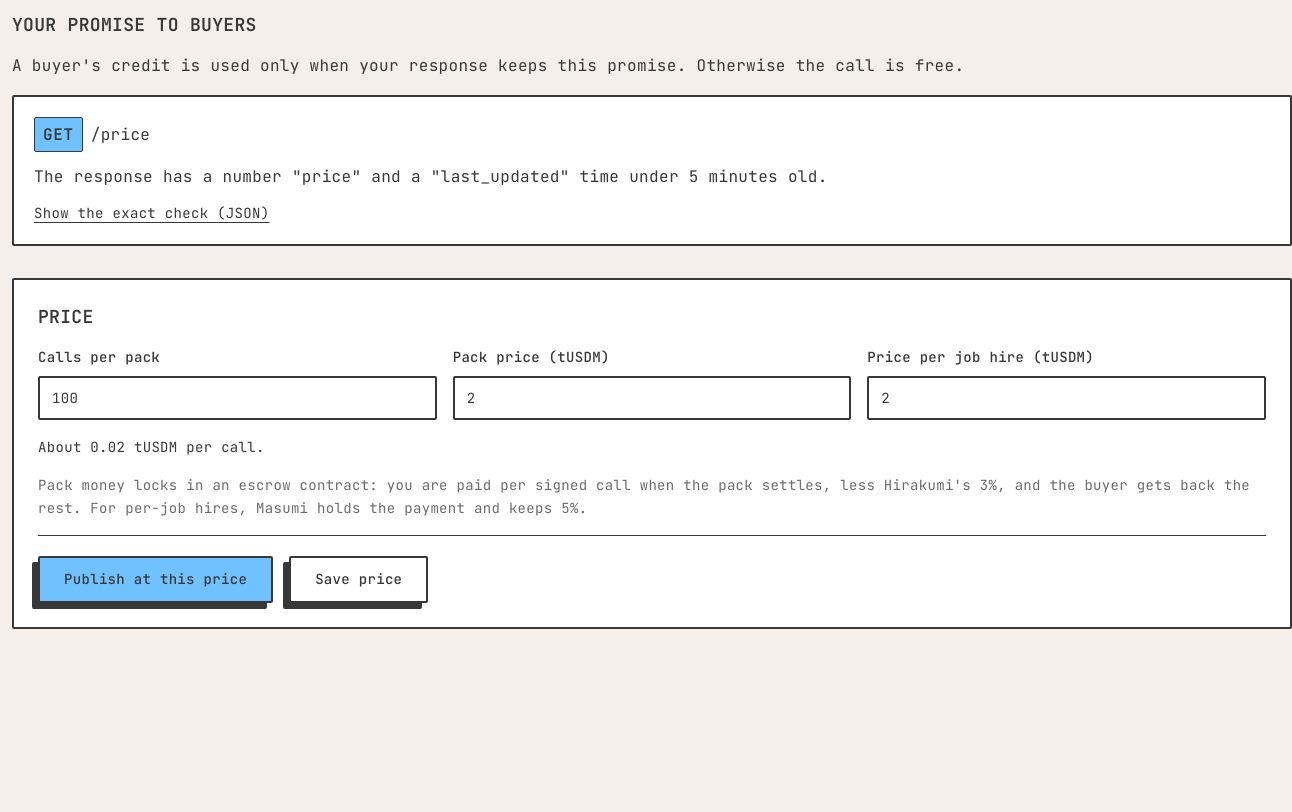
Test case: ReviewPanel › shows the server's error
Click the button "Save price" at (359, 579), box [289,556,428,602]
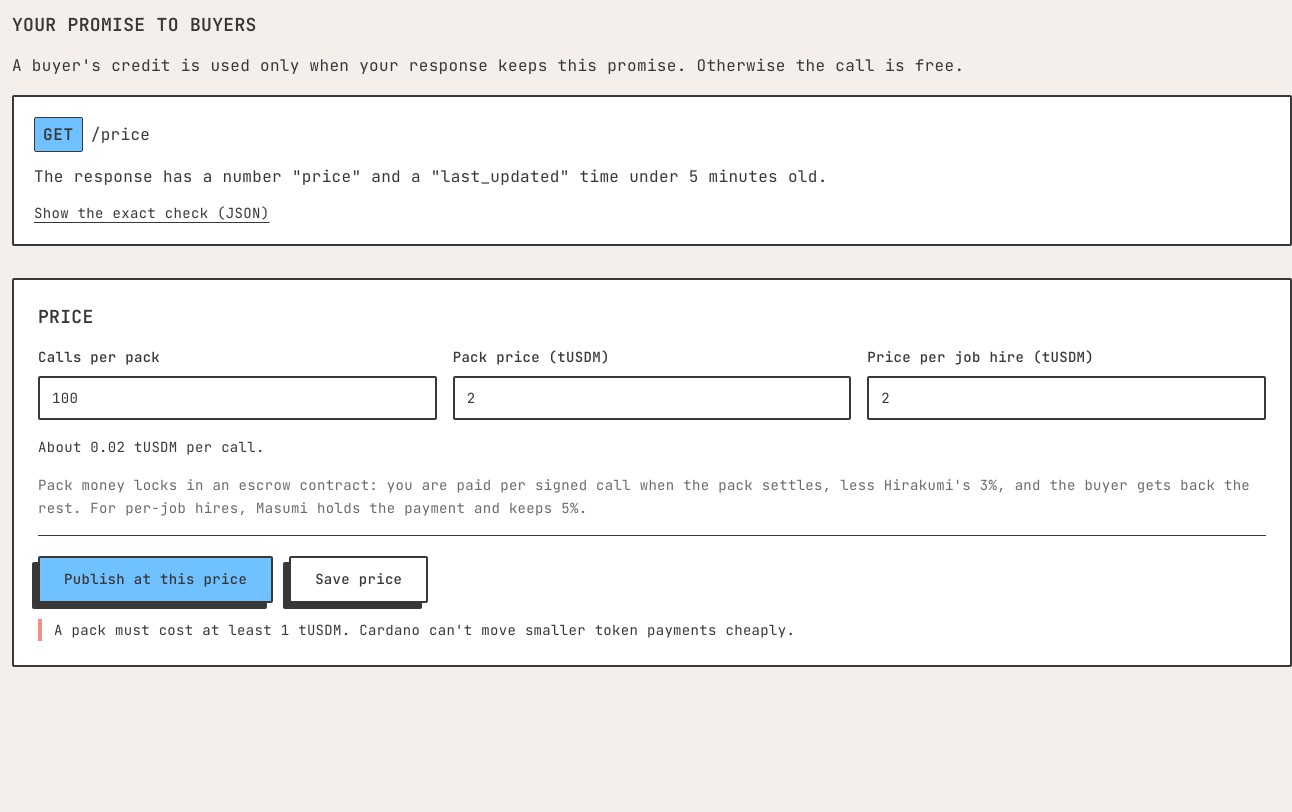
Now the message shows "A pack must cost at least 1 tUSDM.", box [54,620,795,638]
